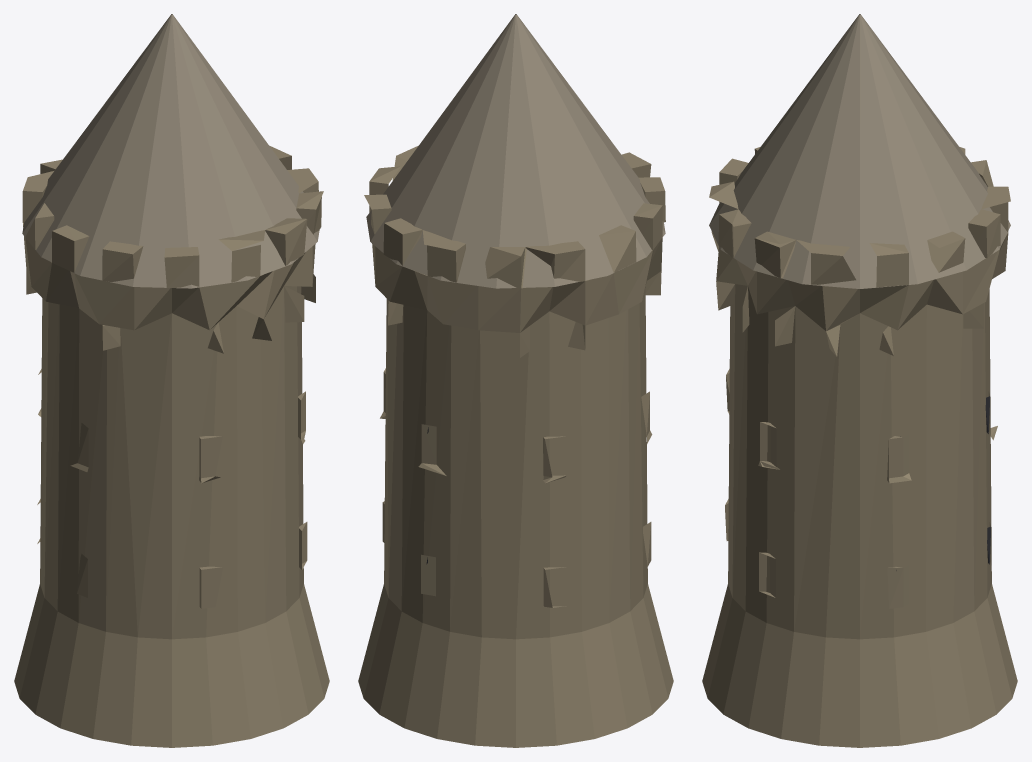
Rendered from castle-tower-roof-lod1.glb.
The picture shows the model from 3 angles, left to right: view 1: azimuth 30°, elevation 25°; view 2: azimuth 150°, elevation 25°; view 3: azimuth 270°, elevation 25°; orthographic projection.
Bounding box in the file's own units: 8.78 × 20.48 × 8.78.
